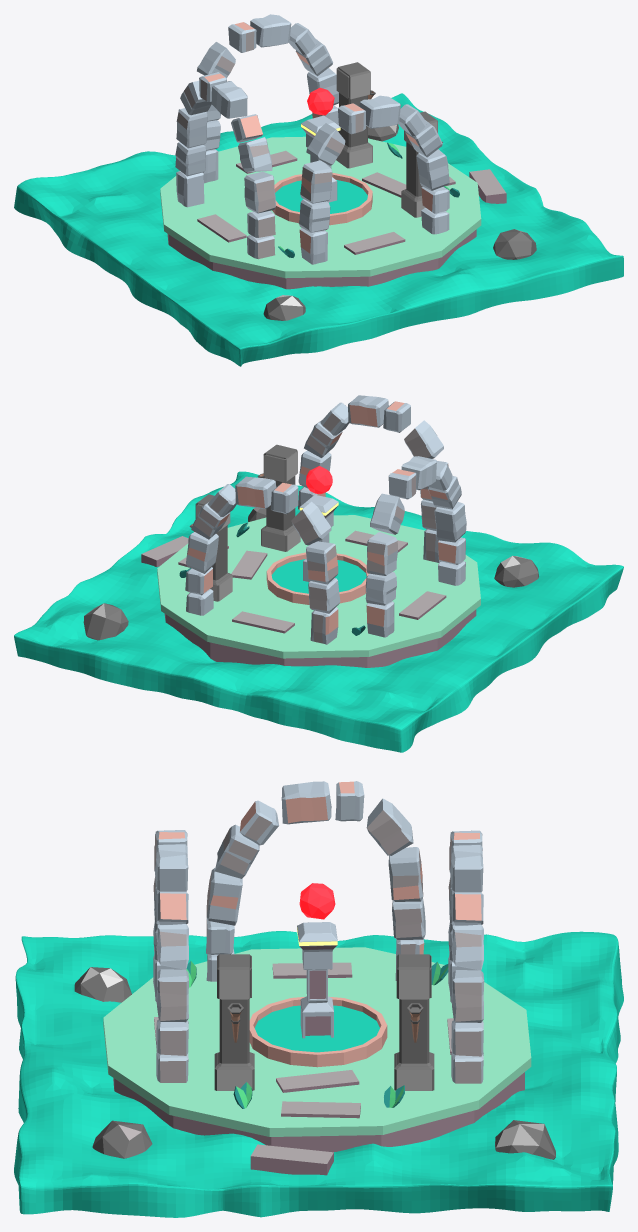
Rendered from bohyne2.fbx.
3 renders of one model, top to bottom at view 1: azimuth 30°, elevation 25°; view 2: azimuth 150°, elevation 25°; view 3: azimuth 270°, elevation 25°, orthographic. The views are drawn at different scales.
Parts seen in each view (by area): view 1: Plane.010, Cylinder, Cube.011, Cube.008, Cube.012, Cube.001, Cylinder.004, Cylinder.001, Cube.009, Icosphere.002, Icosphere.001, Cube.002 (+5 smaller); view 2: Plane.010, Cylinder, Cube.012, Cube.008, Cube.011, Cube.009, Cylinder.004, Cylinder.001, Cube.001, Icosphere.003, Icosphere.001, Cube.017 (+5 smaller); view 3: Plane.010, Cylinder, Cube.008, Cube.012, Cube.011, Cube.001, Cube.009, Cylinder.004, Cube.010, Cylinder.001, Cube.002, Icosphere.003 (+6 smaller).
Part boxes in pixels (x1,y1,x2,y2): Plane.010: [14, 93, 623, 366]; Cylinder: [160, 136, 481, 289]; Cube.011: [299, 95, 449, 264]; Cube.008: [175, 72, 275, 259]; Cube.012: [197, 14, 338, 183]; Cube.001: [336, 62, 372, 168]; Cylinder.004: [275, 180, 367, 213]; Cylinder.001: [272, 173, 372, 225]; Cube.009: [401, 111, 437, 217]; Icosphere.002: [493, 229, 536, 259]; Icosphere.001: [263, 295, 305, 320]; Cube.002: [469, 169, 506, 203]; Plane.010: [14, 471, 623, 752]; Cylinder: [157, 515, 480, 667]; Cube.012: [185, 476, 340, 644]; Cube.008: [365, 456, 466, 637]; Cube.011: [298, 395, 448, 562]; Cube.009: [261, 444, 300, 551]; Cylinder.004: [271, 559, 366, 593]; Cylinder.001: [266, 552, 369, 604]; Cube.001: [195, 494, 232, 601]; Icosphere.003: [83, 603, 128, 640]; Icosphere.001: [494, 555, 538, 587]; Cube.017: [232, 611, 294, 633]; Plane.010: [14, 931, 623, 1217]; Cylinder: [103, 947, 531, 1152]; Cube.008: [206, 781, 425, 981]; Cube.012: [448, 830, 484, 1083]; Cube.011: [153, 830, 188, 1082]; Cube.001: [394, 954, 434, 1090]; Cube.009: [214, 954, 254, 1090]; Cylinder.004: [254, 1005, 379, 1052]; Cube.010: [297, 922, 337, 1038]; Cylinder.001: [249, 996, 387, 1067]; Cube.002: [250, 1144, 333, 1175]; Icosphere.003: [495, 1120, 555, 1159].
Size of the model in its own units: 287 by 131 by 287.
